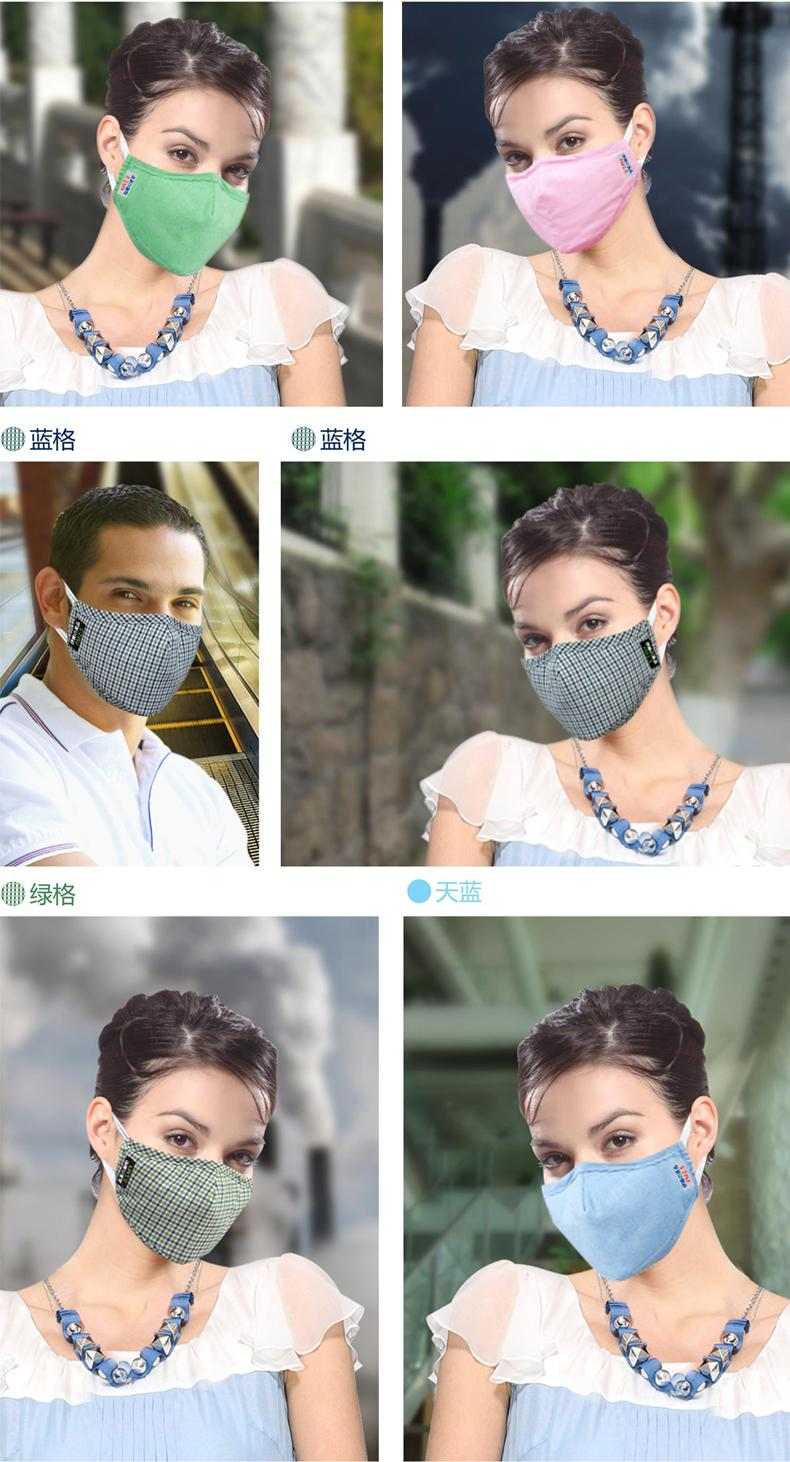OK: (526, 1104, 697, 1275), (107, 1098, 268, 1259), (107, 120, 255, 268), (497, 95, 643, 241), (73, 568, 213, 708), (514, 593, 649, 728)
